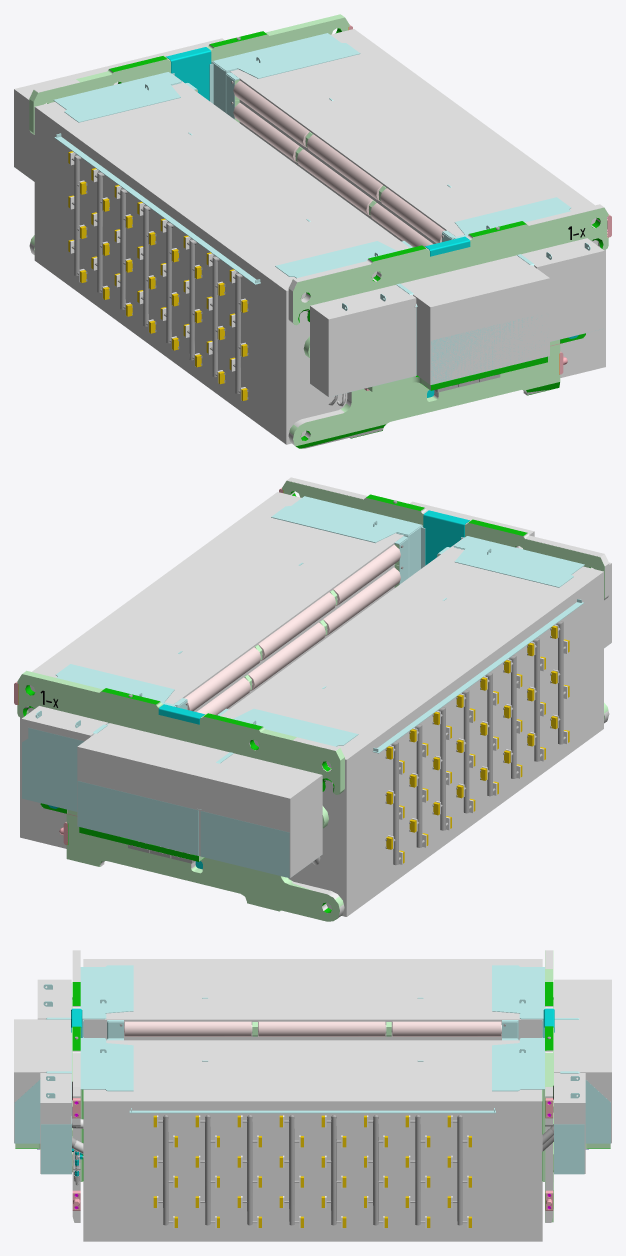
3 views of the same model, one above another, from view 1: azimuth 30°, elevation 25°; view 2: azimuth 150°, elevation 25°; view 3: azimuth 270°, elevation 25° (orthographic). The views are drawn at different scales.
Parts seen in each view (by area): view 1: FIXED_SIDE, LOOSE_SIDE, Model; view 2: Model, LOOSE_SIDE, FIXED_SIDE; view 3: FIXED_SIDE, Model, LOOSE_SIDE.
Part boxes in pixels (<box>): FIXED_SIDE: <box>14,29,607,448</box>; LOOSE_SIDE: <box>34,73,409,444</box>; Model: <box>29,14,611,448</box>; Model: <box>14,481,608,921</box>; LOOSE_SIDE: <box>220,537,603,916</box>; FIXED_SIDE: <box>20,477,611,917</box>; FIXED_SIDE: <box>14,950,611,1241</box>; Model: <box>14,950,610,1228</box>; LOOSE_SIDE: <box>83,959,542,1040</box>.
Bounding box in the file's own units: 2.58 × 1.3 × 4.44.
